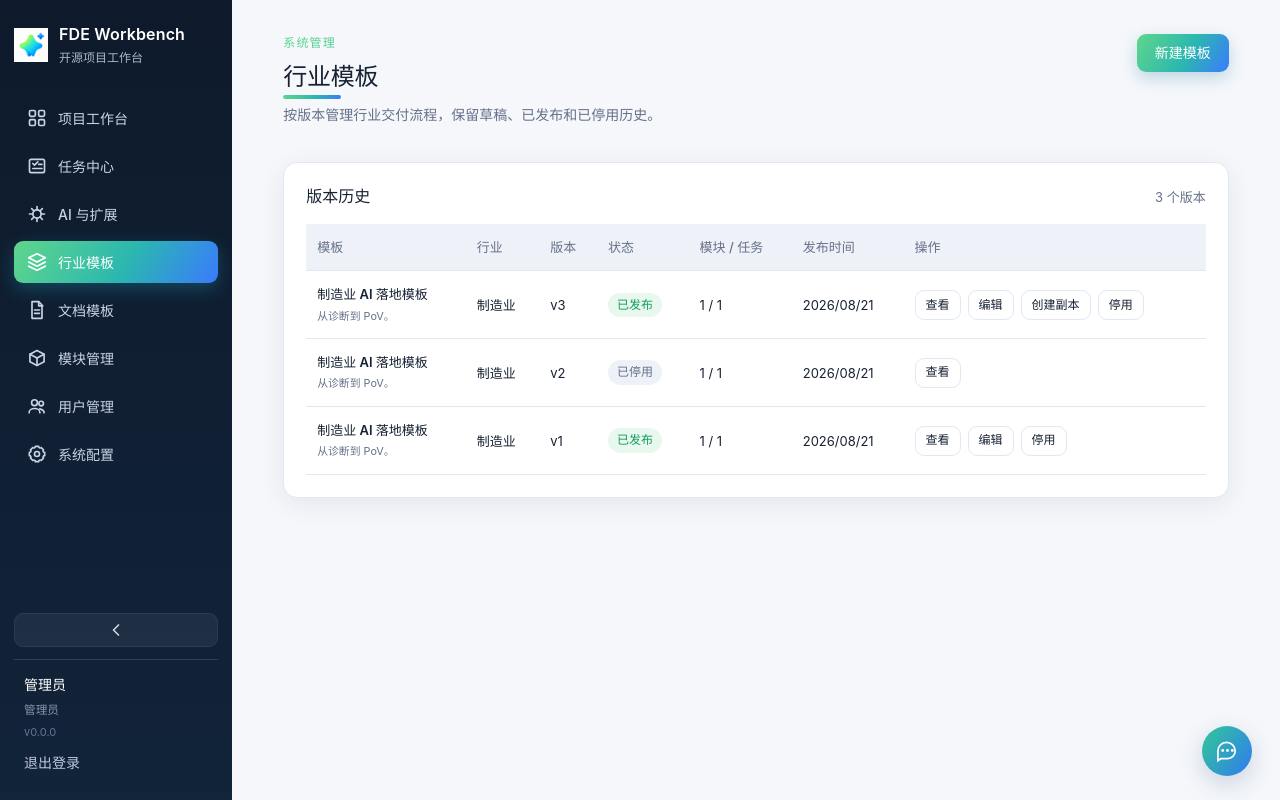
it: 行业模板版本管理 › 仅从聚合最新版本创建下一版草稿，旧版本行无复制动作
The image size is (1280, 800).
Click the button with aria-label "基于最新版本": click(1056, 305) [1021,290,1091,320]
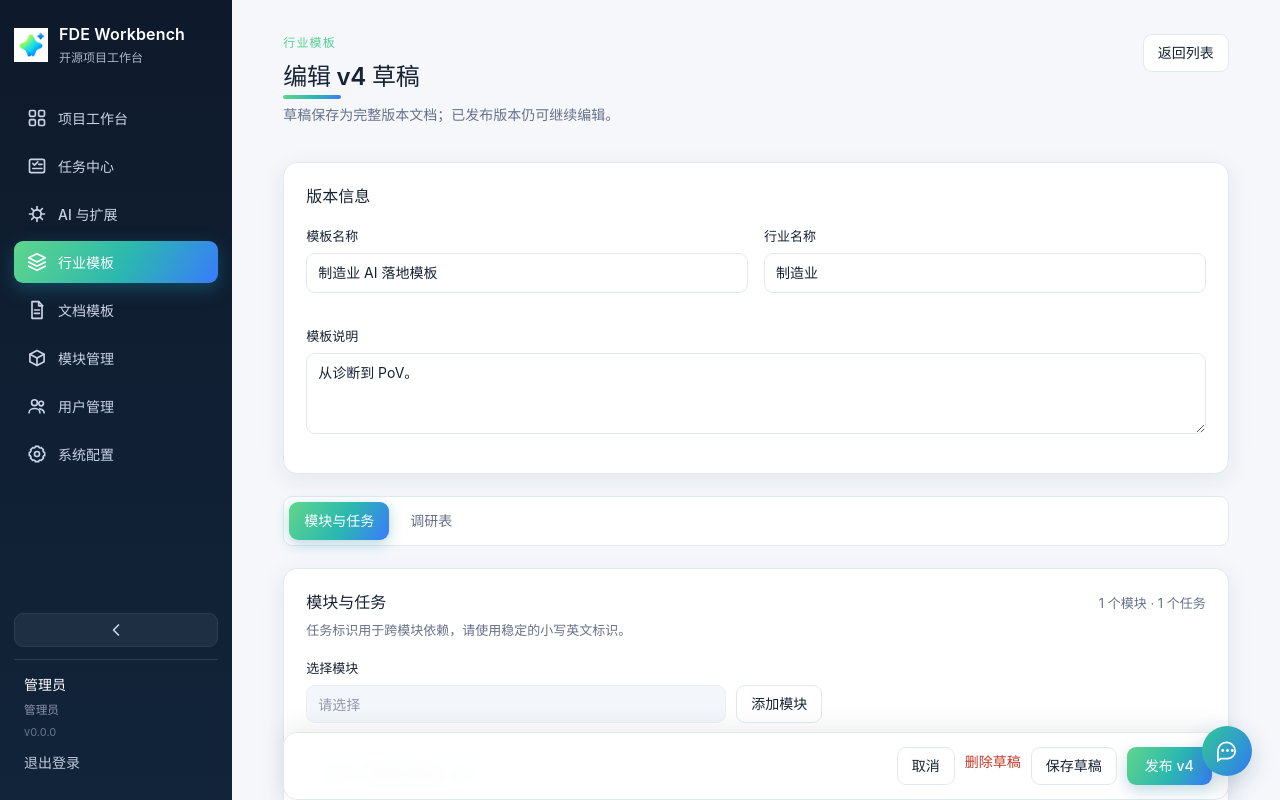
Result: the heading "编辑 v4 草稿" is shown at [283,62,420,91]
